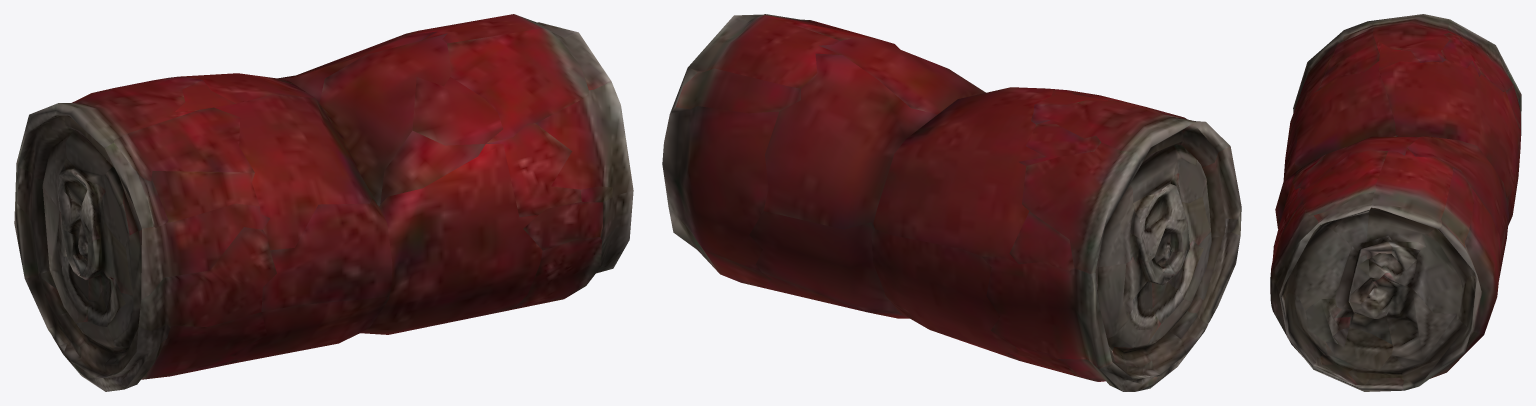
File: trash0.glb
3 views of the same model, side by side, from view 1: azimuth 30°, elevation 25°; view 2: azimuth 150°, elevation 25°; view 3: azimuth 270°, elevation 25° (orthographic). The views are drawn at different scales.
Size of the model in its own units: 90.42 by 47.26 by 50.94.
Materials: 1 (1 with a texture image).
